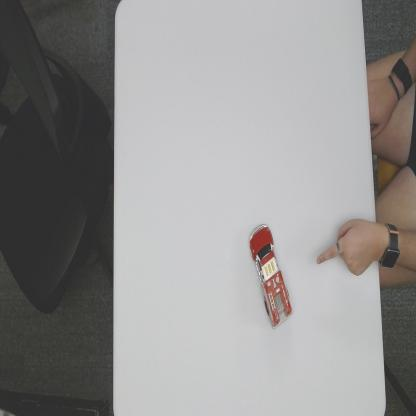Firetruck: (248, 223, 292, 328)
Hand: (316, 215, 379, 277)
